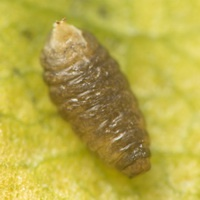insect: (41, 20, 149, 175)
